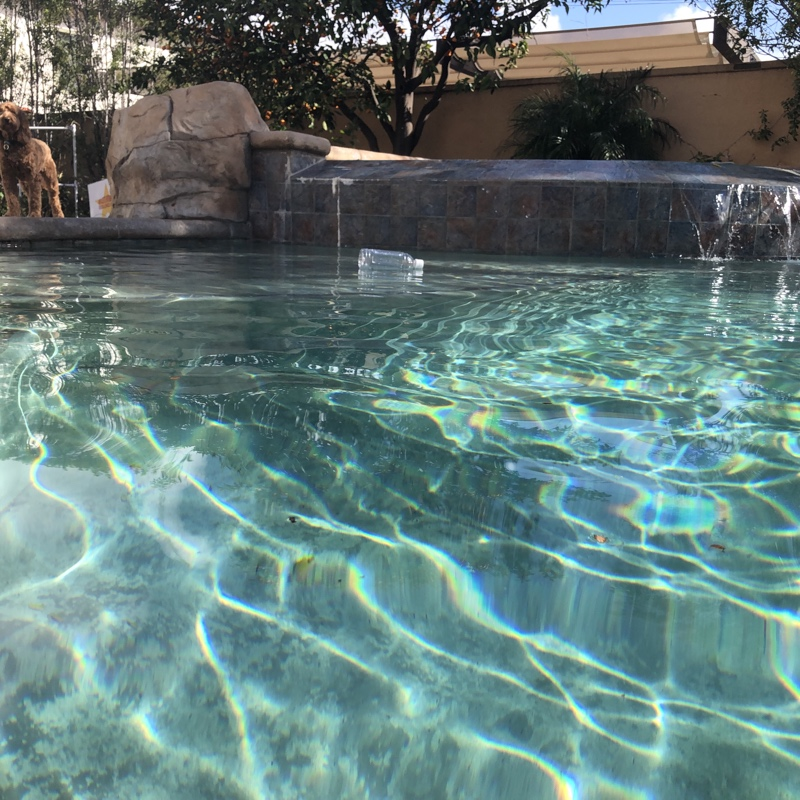Plastic Bottle: (352, 244, 428, 278)
